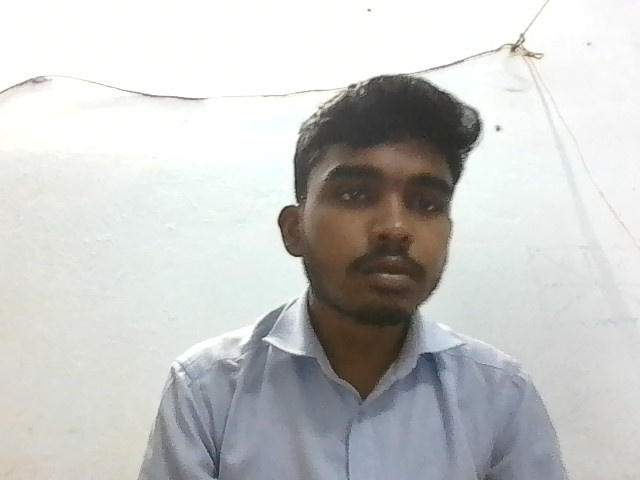real: (282, 63, 480, 343)
